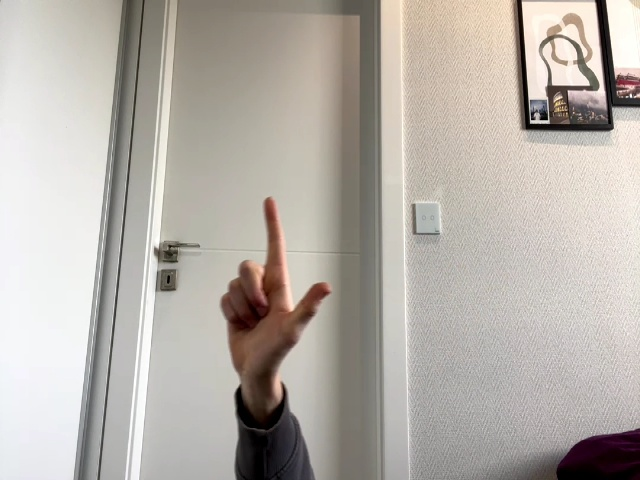L: (221, 198, 331, 398)
